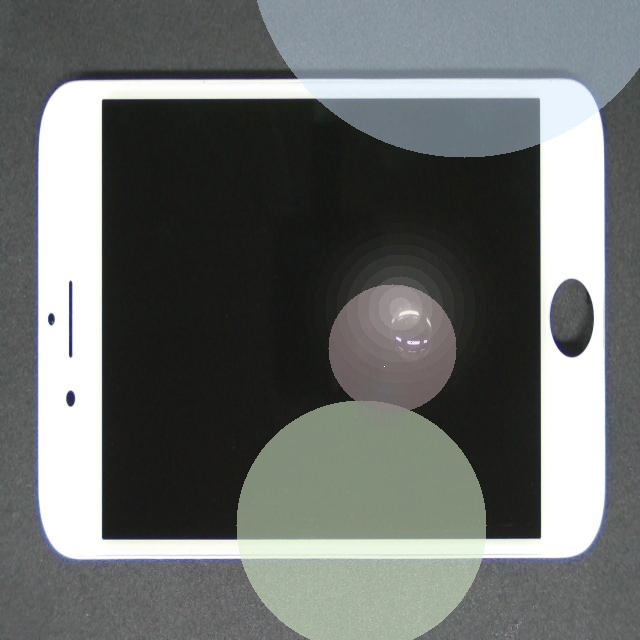oil: (216, 139, 600, 462)
